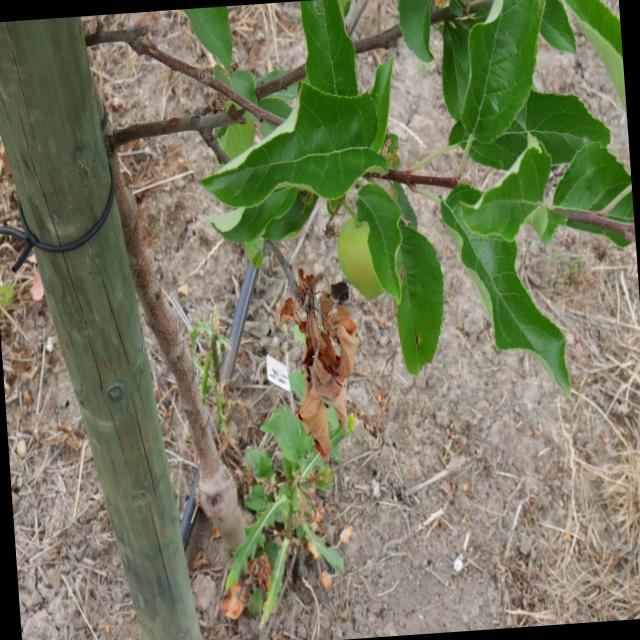-FireBlight-: (266, 274, 368, 464)
